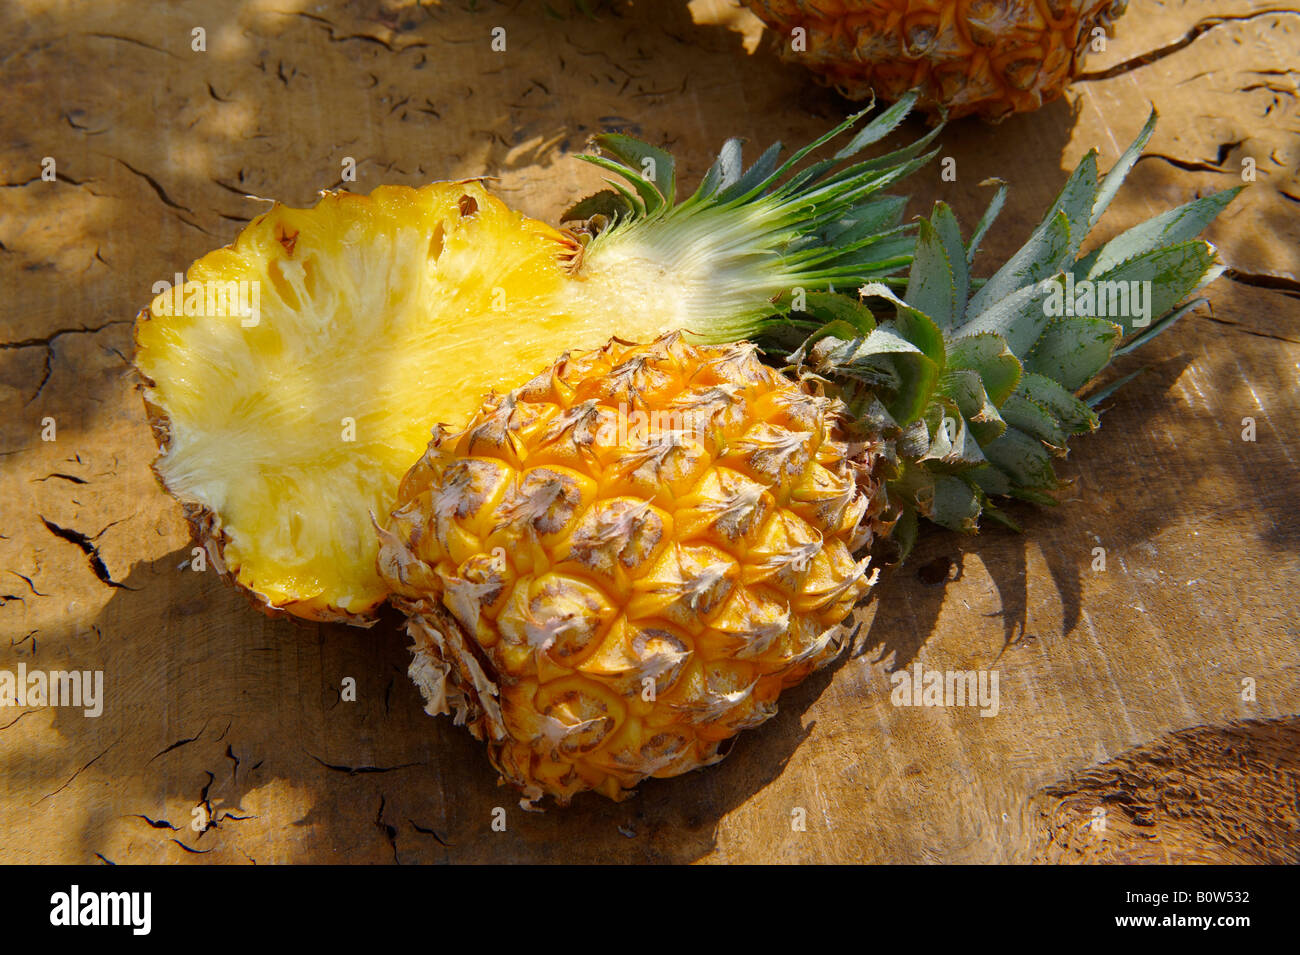pineapple: (114, 120, 885, 605)
